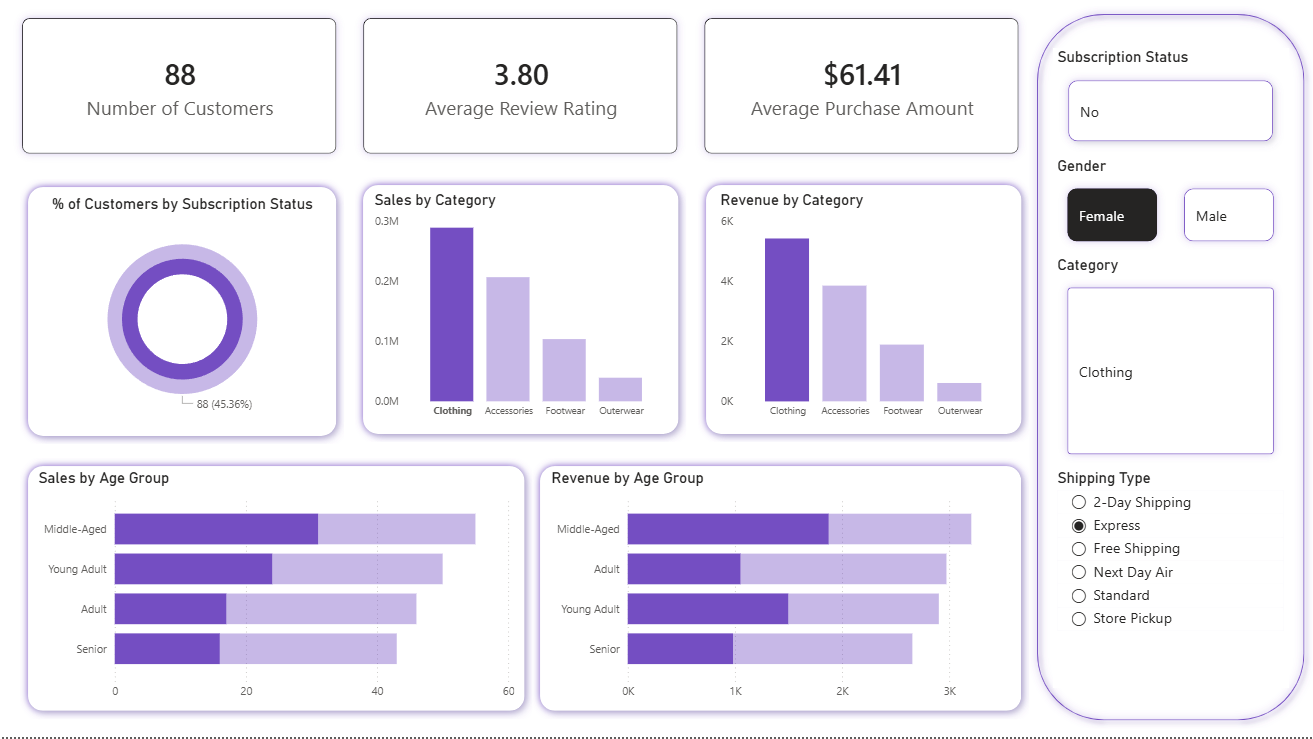

The page's visual inventory and layout, read from the dashboard file:
{"tool":"powerbi","page":{"name":"Page 1","canvas":[1466,829],"ordinal":0},"visuals":[{"type":"cardVisual","fields":{"Data":["customer.Number of Customers","customer.Average Review Rating","customer.Average Purchase Amount"]},"box":[0,0,1167.2,207.4],"z":0},{"type":"shape","box":[25.1,207.4,361.3,295.2],"z":1000},{"type":"donutChart","title":"% of Customers by Subscription Status","fields":{"Category":["customer.subscription_status"],"Y":["CountNonNull(customer.customer_id)"]},"box":[41,224.5,330.5,257.6],"z":2000},{"type":"shape","box":[398.9,205.2,369.3,295.2],"z":3000},{"type":"clusteredColumnChart","title":"Sales by Category","fields":{"Y":["Sum(customer.customer_id)"],"Category":["customer.category"]},"box":[416,221.1,335.1,263.3],"z":4000},{"type":"shape","box":[1150.1,14.8,315.7,804.7],"z":5000},{"type":"advancedSlicerVisual","title":"Subscription Status","fields":{"Values":["customer.subscription_status"]},"box":[1176.4,61.3,262.9,121.4],"z":6000},{"type":"advancedSlicerVisual","title":"Gender","fields":{"Values":["customer.gender"]},"box":[1176.4,182.7,262.9,110.3],"z":7000},{"type":"advancedSlicerVisual","title":"Category","fields":{"Values":["customer.category"]},"box":[1176.4,293,262.9,237.3],"z":8000},{"type":"listSlicer","title":"Shipping Type","fields":{"Values":["customer.shipping_type"]},"box":[1176.4,530.3,262.9,244],"z":9000},{"type":"shape","box":[780.8,205.2,369.3,295.2],"z":10000},{"type":"clusteredColumnChart","title":"Revenue by Category","fields":{"Y":["Sum(customer.purchase_amount)"],"Category":["customer.category"]},"box":[801.3,221.1,328.3,263.3],"z":11000},{"type":"shape","box":[596.1,517.5,554,290.7],"z":12000},{"type":"clusteredBarChart","title":"Revenue by Age Group","fields":{"Y":["Sum(customer.purchase_amount)"],"Category":["customer.age_group"]},"box":[613.2,530,519.8,265.6],"z":13000},{"type":"shape","box":[25.1,517.5,571,290.7],"z":14000},{"type":"clusteredBarChart","title":"Sales by Age Group","fields":{"Category":["customer.age_group"],"Y":["CountNonNull(customer.customer_id)"]},"box":[41,530,540.3,265.6],"z":15000}]}

Visuals, with their boxes in screenshot pixels (x1, y1, x2, y2), scaled from the page's 1466x829 canvas onto the 1313x739 screenshot:
cardVisual - customer.Number of Customers x customer.Average Review Rating: <region>0, 0, 1045, 185</region>
shape: <region>22, 185, 346, 448</region>
"% of Customers by Subscription Status" donutChart: <region>37, 200, 333, 430</region>
shape: <region>357, 183, 688, 446</region>
"Sales by Category" clusteredColumnChart: <region>373, 197, 673, 432</region>
shape: <region>1030, 13, 1312, 731</region>
"Subscription Status" advancedSlicerVisual: <region>1054, 55, 1289, 163</region>
"Gender" advancedSlicerVisual: <region>1054, 163, 1289, 261</region>
"Category" advancedSlicerVisual: <region>1054, 261, 1289, 473</region>
"Shipping Type" listSlicer: <region>1054, 473, 1289, 690</region>
shape: <region>699, 183, 1030, 446</region>
"Revenue by Category" clusteredColumnChart: <region>718, 197, 1012, 432</region>
shape: <region>534, 461, 1030, 720</region>
"Revenue by Age Group" clusteredBarChart: <region>549, 472, 1015, 709</region>
shape: <region>22, 461, 534, 720</region>
"Sales by Age Group" clusteredBarChart: <region>37, 472, 521, 709</region>
